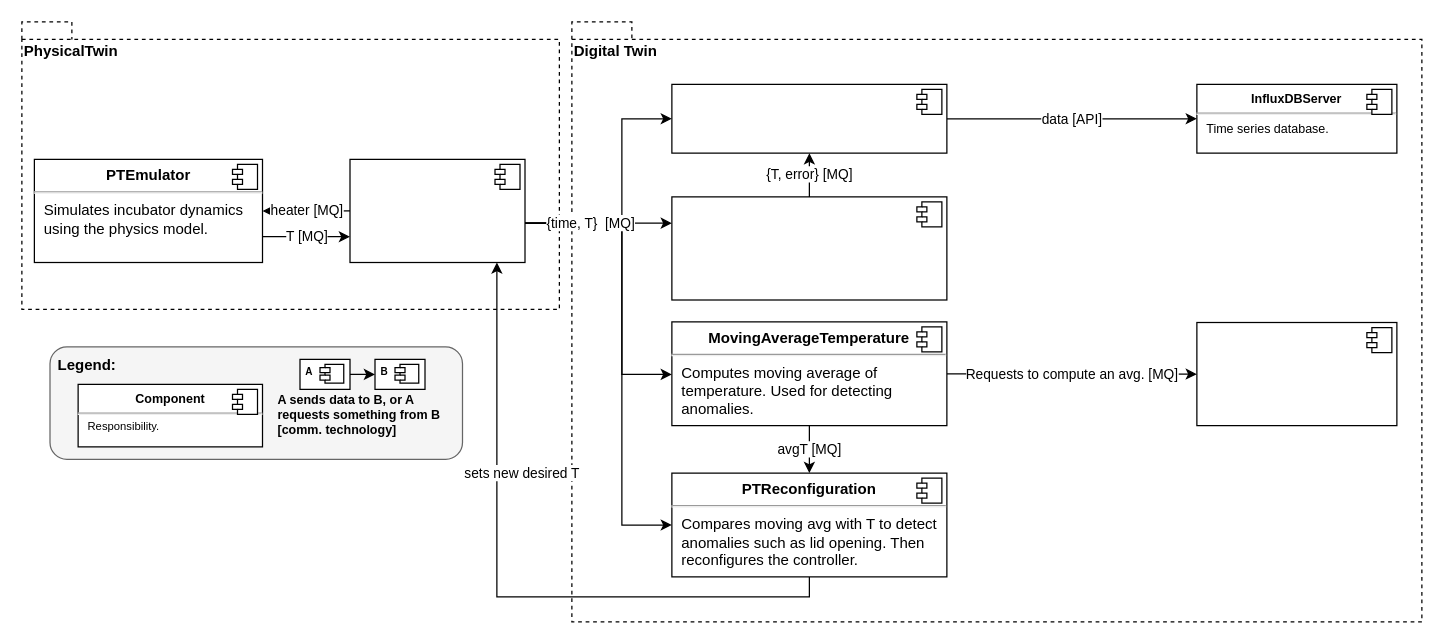
The diagram is 1444 pixels wide and 644 high, and some of its shapes have lost their labels. Here are the shapes that lost their labels. From the top down, the centre of each, then its label:
At (809,118): "InfluxDataRecorder Records all state messages into InfluxDB.".
At (437,210): "Controller Maintains correct temperature.".
At (809,248): "NNBasedMonitoringService Uses a NN to predict the next temperature.".
At (1296,373): "AverageService RPC server that computes averages.".
